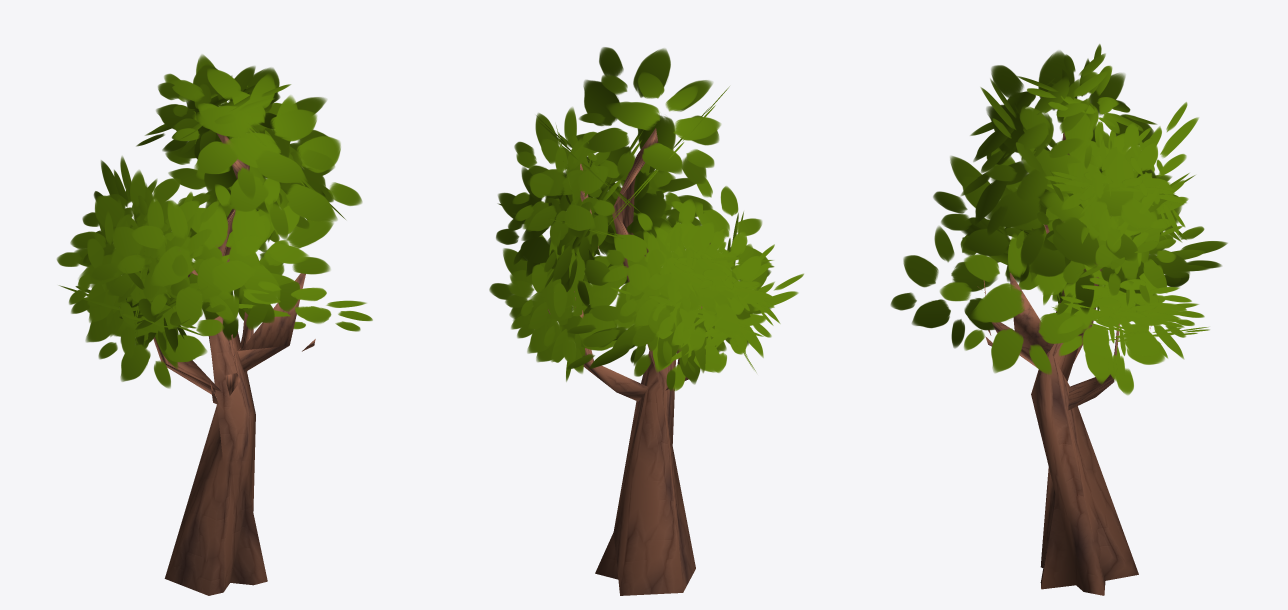
The model's file is broad-2-far.glb.
3 renders of one model, left to right at view 1: azimuth 30°, elevation 25°; view 2: azimuth 150°, elevation 25°; view 3: azimuth 270°, elevation 25°, orthographic. The views are drawn at different scales.
Visible parts, largest first — view 1: CommonTree_2; view 2: CommonTree_2; view 3: CommonTree_2.
Boxes of the visible parts, x1,y1,x2,y2 form: CommonTree_2: (56, 54, 372, 595); CommonTree_2: (489, 47, 803, 595); CommonTree_2: (890, 44, 1227, 595).
Bounding box in the file's own units: 5.65 × 7.73 × 5.46.
2 materials, 2 textured.
